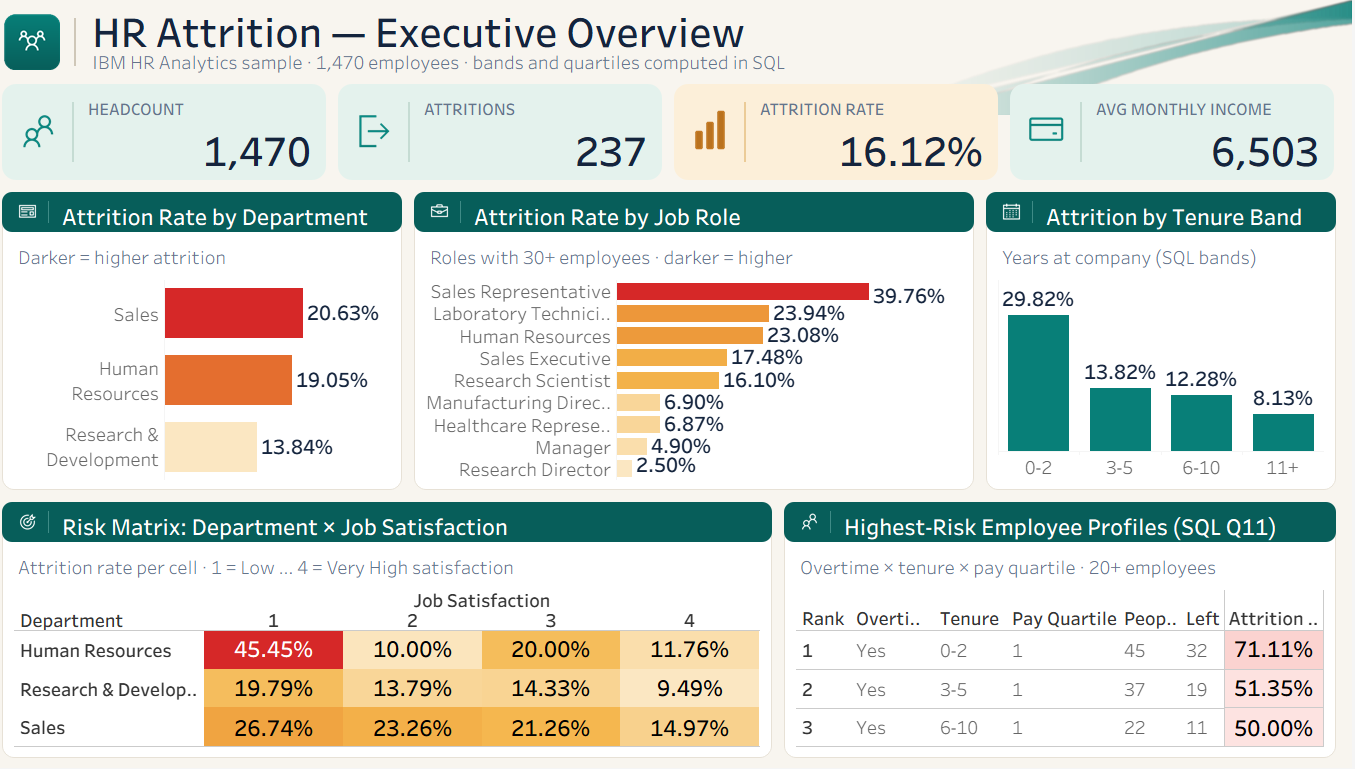

Layout of this report page (visuals, bound fields, positions):
{"tool":"tableau","page":{"name":"Executive Overview","canvas":[1366,768],"ordinal":0},"visuals":[{"type":"image","param":"Image/header_wave.png","box":[866,0,500,116]},{"type":"text","box":[100,10,820,42]},{"type":"image","param":"Image/logo_group.png","box":[18,14,56,56]},{"type":"blank","box":[88,18,2,48]},{"type":"text","box":[100,50,900,24]},{"type":"blank","box":[16,84,324,96]},{"type":"blank","box":[352,84,324,96]},{"type":"blank","box":[688,84,324,96]},{"type":"blank","box":[1024,84,324,96]},{"type":"worksheet","title":"KPI Headcount","mark":"Circle","box":[94,90,238,84]},{"type":"worksheet","title":"KPI Attritions","mark":"Circle","box":[430,90,238,84]},{"type":"worksheet","title":"KPI Attrition Rate","mark":"Circle","box":[766,90,238,84]},{"type":"worksheet","title":"KPI Avg Monthly Income","mark":"Circle","box":[1102,90,238,84]},{"type":"blank","box":[86,102,2,60]},{"type":"blank","box":[422,102,2,60]},{"type":"blank","box":[758,102,2,60]},{"type":"blank","box":[1094,102,2,60]},{"type":"image","param":"Image/kpi_people.png","box":[30,110,44,44]},{"type":"image","param":"Image/kpi_exit.png","box":[366,110,44,44]},{"type":"image","param":"Image/kpi_bars_amber.png","box":[702,110,44,44]},{"type":"image","param":"Image/kpi_card.png","box":[1038,110,44,44]},{"type":"blank","box":[16,192,400,298]},{"type":"blank","box":[16,192,400,40]},{"type":"blank","box":[428,192,560,298]},{"type":"blank","box":[428,192,560,40]},{"type":"blank","box":[1000,192,350,298]},{"type":"blank","box":[1000,192,350,40]},{"type":"text","box":[70,199,336,34]},{"type":"text","box":[482,199,496,34]},{"type":"text","box":[1054,199,286,34]},{"type":"image","param":"Image/ic_dept.png","box":[30,201,22,22]},{"type":"blank","box":[62,201,1,22]},{"type":"image","param":"Image/ic_role.png","box":[442,201,22,22]},{"type":"blank","box":[474,201,1,22]},{"type":"image","param":"Image/ic_calendar.png","box":[1014,201,22,22]},{"type":"blank","box":[1046,201,1,22]},{"type":"worksheet","title":"Rate by Department","mark":"Bar","rows":["Department"],"cols":["Calculation_9100000000000003"],"box":[24,236,384,248]},{"type":"worksheet","title":"Rate by Job Role","mark":"Bar","rows":["JobRole"],"cols":["Calculation_9100000000000003"],"box":[436,236,544,248]},{"type":"worksheet","title":"Rate by Tenure Band","mark":"Bar","rows":["Calculation_9100000000000003"],"cols":["TenureBand"],"box":[1008,236,334,248]},{"type":"blank","box":[16,502,770,256]},{"type":"blank","box":[16,502,770,40]},{"type":"blank","box":[798,502,552,256]},{"type":"blank","box":[798,502,552,40]},{"type":"text","box":[70,509,706,34]},{"type":"text","box":[852,509,488,34]},{"type":"image","param":"Image/ic_target.png","box":[30,511,22,22]},{"type":"blank","box":[62,511,1,22]},{"type":"image","param":"Image/ic_people.png","box":[812,511,22,22]},{"type":"blank","box":[844,511,1,22]},{"type":"worksheet","title":"Risk Matrix Dept x Satisfaction","mark":"Square","rows":["Department"],"cols":["JobSatisfaction"],"box":[24,546,754,206]},{"type":"worksheet","title":"Top Risk Profiles","mark":"Square","rows":["risk_rank","OverTime","TenureBand","IncomeQuartile","Calculation_9200000000000002","Calculation_9200000000000003"],"box":[806,546,536,206]}]}

Visuals, with their boxes in screenshot pixels (x1, y1, x2, y2), scaled from the page's 1366x768 canvas onto the 1355x769 screenshot:
image: {"left": 859, "top": 0, "right": 1354, "bottom": 116}
text: {"left": 99, "top": 10, "right": 913, "bottom": 52}
image: {"left": 18, "top": 14, "right": 73, "bottom": 70}
blank: {"left": 87, "top": 18, "right": 89, "bottom": 66}
text: {"left": 99, "top": 50, "right": 992, "bottom": 74}
blank: {"left": 16, "top": 84, "right": 337, "bottom": 180}
blank: {"left": 349, "top": 84, "right": 671, "bottom": 180}
blank: {"left": 682, "top": 84, "right": 1004, "bottom": 180}
blank: {"left": 1016, "top": 84, "right": 1337, "bottom": 180}
"KPI Headcount" worksheet (Circle marks): {"left": 93, "top": 90, "right": 329, "bottom": 174}
"KPI Attritions" worksheet (Circle marks): {"left": 427, "top": 90, "right": 663, "bottom": 174}
"KPI Attrition Rate" worksheet (Circle marks): {"left": 760, "top": 90, "right": 996, "bottom": 174}
"KPI Avg Monthly Income" worksheet (Circle marks): {"left": 1093, "top": 90, "right": 1329, "bottom": 174}
blank: {"left": 85, "top": 102, "right": 87, "bottom": 162}
blank: {"left": 419, "top": 102, "right": 421, "bottom": 162}
blank: {"left": 752, "top": 102, "right": 754, "bottom": 162}
blank: {"left": 1085, "top": 102, "right": 1087, "bottom": 162}
image: {"left": 30, "top": 110, "right": 73, "bottom": 154}
image: {"left": 363, "top": 110, "right": 407, "bottom": 154}
image: {"left": 696, "top": 110, "right": 740, "bottom": 154}
image: {"left": 1030, "top": 110, "right": 1073, "bottom": 154}
blank: {"left": 16, "top": 192, "right": 413, "bottom": 491}
blank: {"left": 16, "top": 192, "right": 413, "bottom": 232}
blank: {"left": 425, "top": 192, "right": 980, "bottom": 491}
blank: {"left": 425, "top": 192, "right": 980, "bottom": 232}
blank: {"left": 992, "top": 192, "right": 1339, "bottom": 491}
blank: {"left": 992, "top": 192, "right": 1339, "bottom": 232}
text: {"left": 69, "top": 199, "right": 403, "bottom": 233}
text: {"left": 478, "top": 199, "right": 970, "bottom": 233}
text: {"left": 1046, "top": 199, "right": 1329, "bottom": 233}
image: {"left": 30, "top": 201, "right": 52, "bottom": 223}
image: {"left": 438, "top": 201, "right": 460, "bottom": 223}
blank: {"left": 470, "top": 201, "right": 471, "bottom": 223}
image: {"left": 1006, "top": 201, "right": 1028, "bottom": 223}
blank: {"left": 1038, "top": 201, "right": 1039, "bottom": 223}
"Rate by Department" worksheet (Bar marks): {"left": 24, "top": 236, "right": 405, "bottom": 485}
"Rate by Job Role" worksheet (Bar marks): {"left": 432, "top": 236, "right": 972, "bottom": 485}
"Rate by Tenure Band" worksheet (Bar marks): {"left": 1000, "top": 236, "right": 1331, "bottom": 485}
blank: {"left": 16, "top": 503, "right": 780, "bottom": 759}
blank: {"left": 16, "top": 503, "right": 780, "bottom": 543}
blank: {"left": 792, "top": 503, "right": 1339, "bottom": 759}
blank: {"left": 792, "top": 503, "right": 1339, "bottom": 543}
text: {"left": 69, "top": 510, "right": 770, "bottom": 544}
text: {"left": 845, "top": 510, "right": 1329, "bottom": 544}
image: {"left": 30, "top": 512, "right": 52, "bottom": 534}
image: {"left": 805, "top": 512, "right": 827, "bottom": 534}
blank: {"left": 837, "top": 512, "right": 838, "bottom": 534}
"Risk Matrix Dept x Satisfaction" worksheet (Square marks): {"left": 24, "top": 547, "right": 772, "bottom": 753}
"Top Risk Profiles" worksheet (Square marks): {"left": 800, "top": 547, "right": 1331, "bottom": 753}
